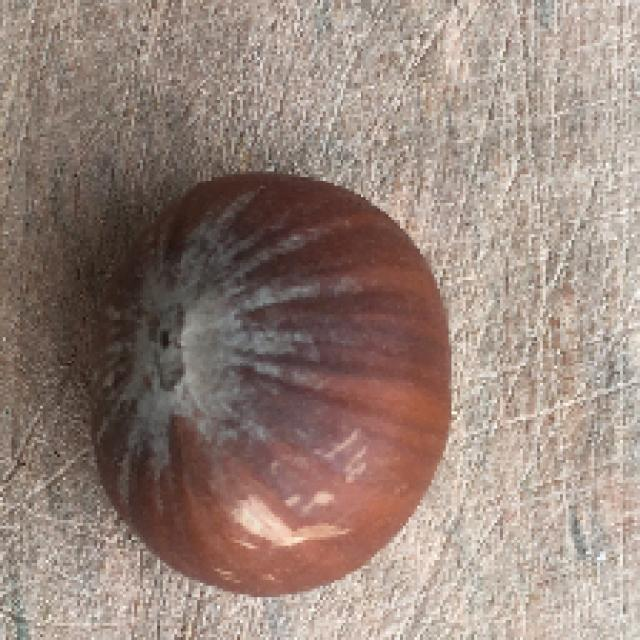qualityHazelnut: (81, 172, 456, 601)
